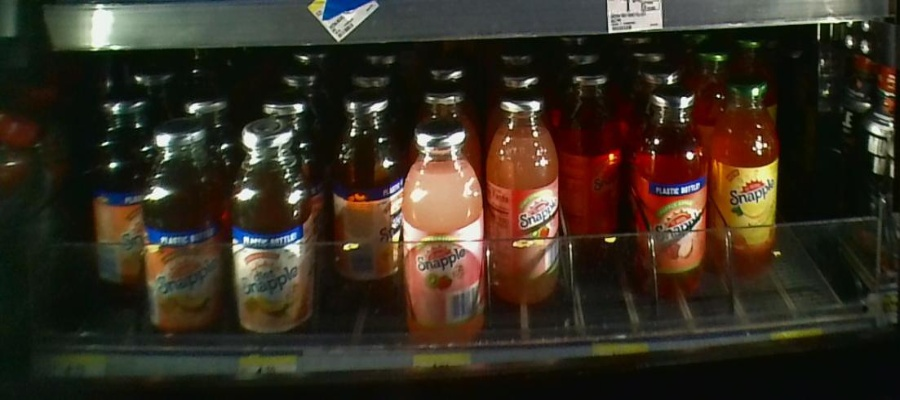bottle: (229, 122, 316, 342), (408, 122, 487, 346), (147, 124, 224, 338), (489, 89, 559, 307), (327, 99, 404, 289), (711, 70, 779, 278), (637, 84, 707, 286), (89, 92, 144, 290), (561, 72, 624, 242)
